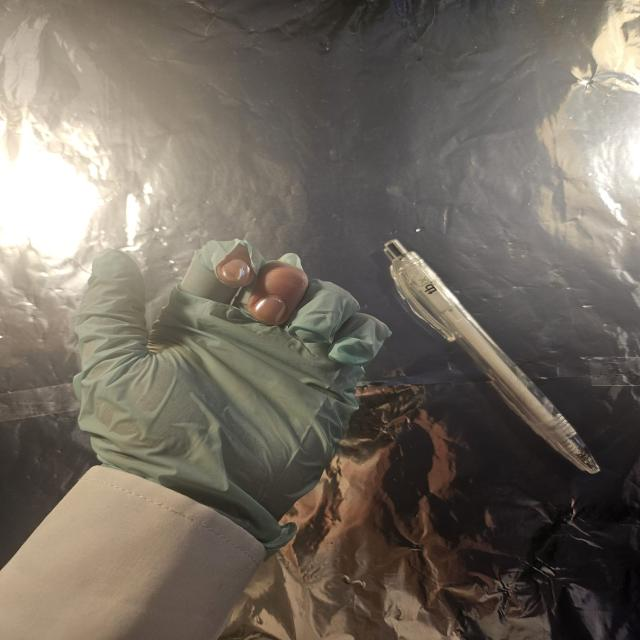gloves_damaged: (75, 237, 394, 550)
